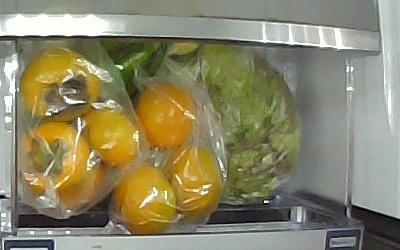persimmon_vinyl: (23, 122, 99, 207), (19, 48, 100, 121), (110, 162, 176, 234), (135, 81, 197, 153), (164, 149, 222, 222), (81, 109, 139, 174)
